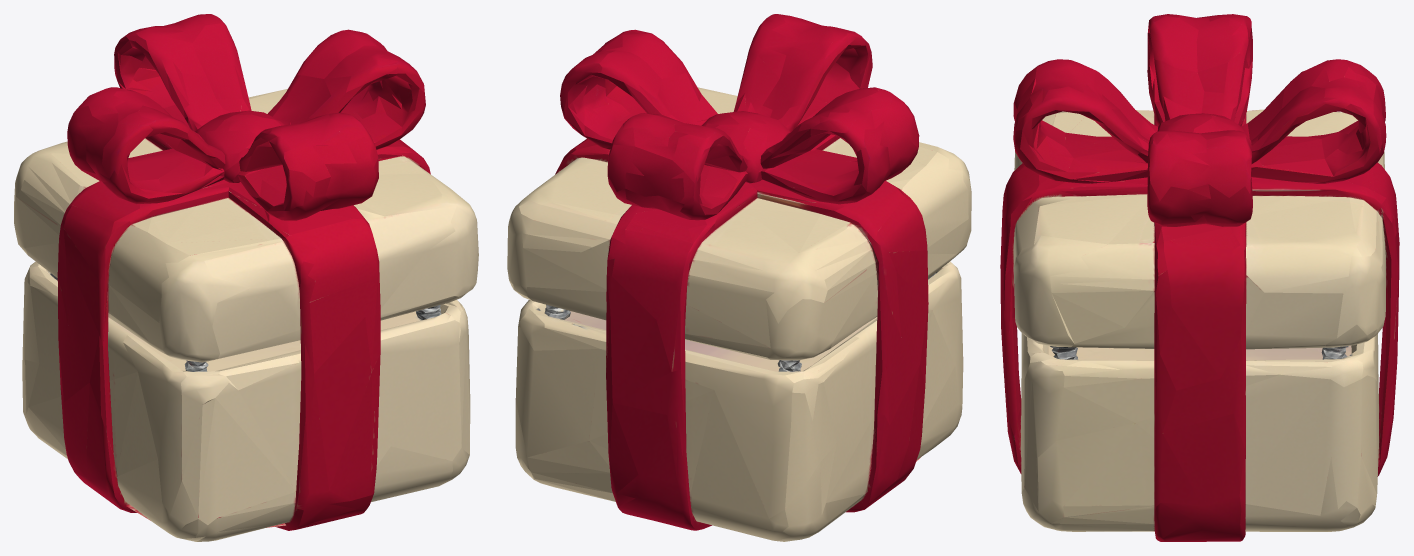
The model's file is gift_box.glb.
The picture shows the model from 3 angles, left to right: view 1: azimuth 30°, elevation 25°; view 2: azimuth 150°, elevation 25°; view 3: azimuth 270°, elevation 25°; orthographic projection.
Size of the model in its own units: 1.7 by 1.9 by 1.7.
Materials: 1 (1 with a texture image).
